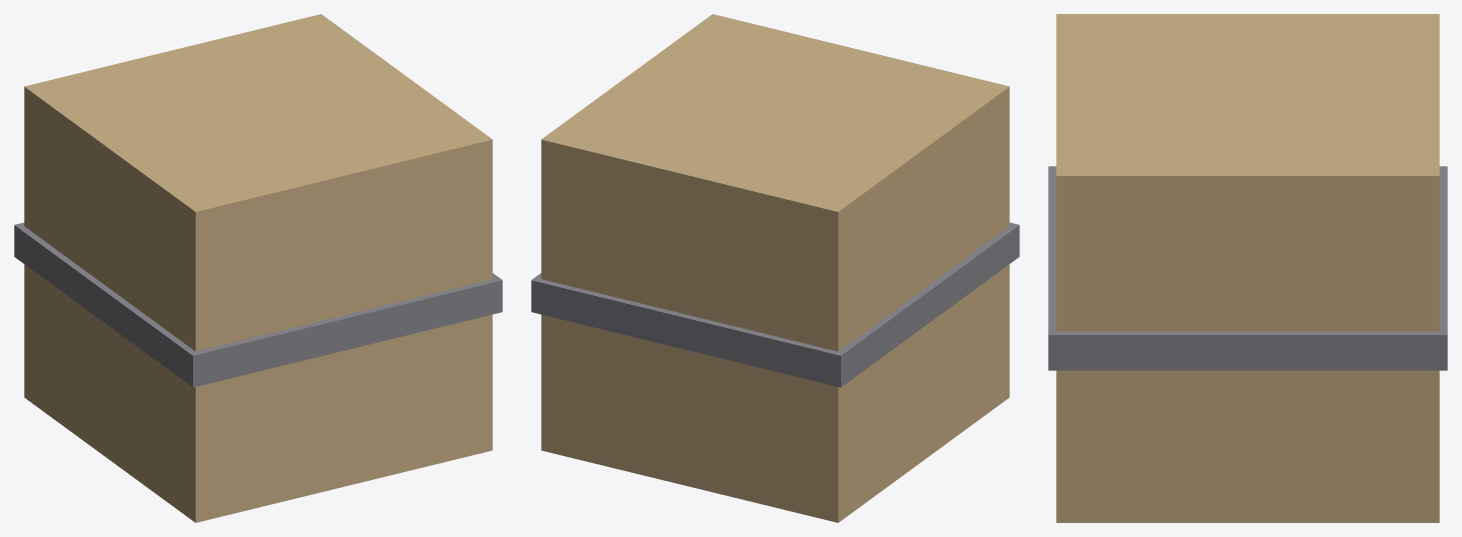
Rendered from crate.glb.
3 renders of one model, left to right at view 1: azimuth 30°, elevation 25°; view 2: azimuth 150°, elevation 25°; view 3: azimuth 270°, elevation 25°, orthographic. The views are drawn at different scales.
Parts seen in each view (by area): view 1: CrateBody, CrateBrackets; view 2: CrateBody, CrateBrackets; view 3: CrateBody, CrateBrackets.
Part boxes in pixels (left/top/right/bottom): CrateBody: left=24, top=14, right=492, bottom=522; CrateBrackets: left=14, top=222, right=502, bottom=387; CrateBody: left=541, top=14, right=1009, bottom=522; CrateBrackets: left=531, top=222, right=1019, bottom=387; CrateBody: left=1056, top=14, right=1439, bottom=522; CrateBrackets: left=1048, top=166, right=1447, bottom=370.
Size of the model in its own units: 0.9384 by 0.9 by 0.9384.
